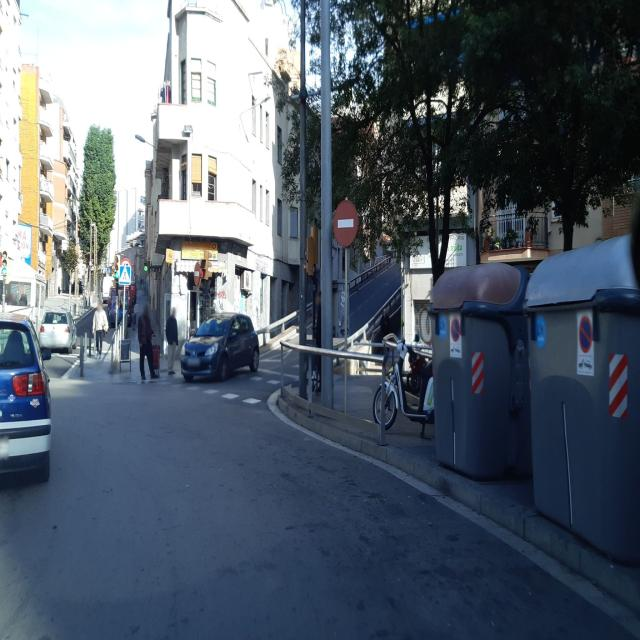bike: (372, 329, 434, 438)
car: (0, 314, 52, 492), (180, 312, 260, 383), (39, 309, 75, 356)
